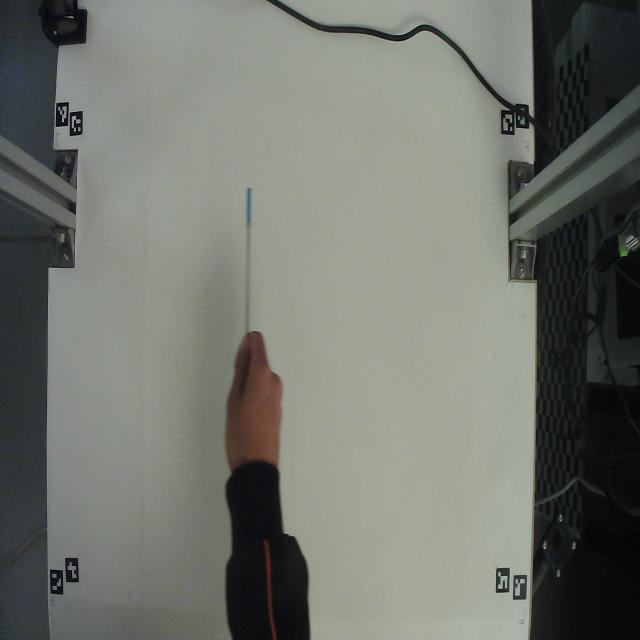NoPres: (233, 163, 262, 335)
